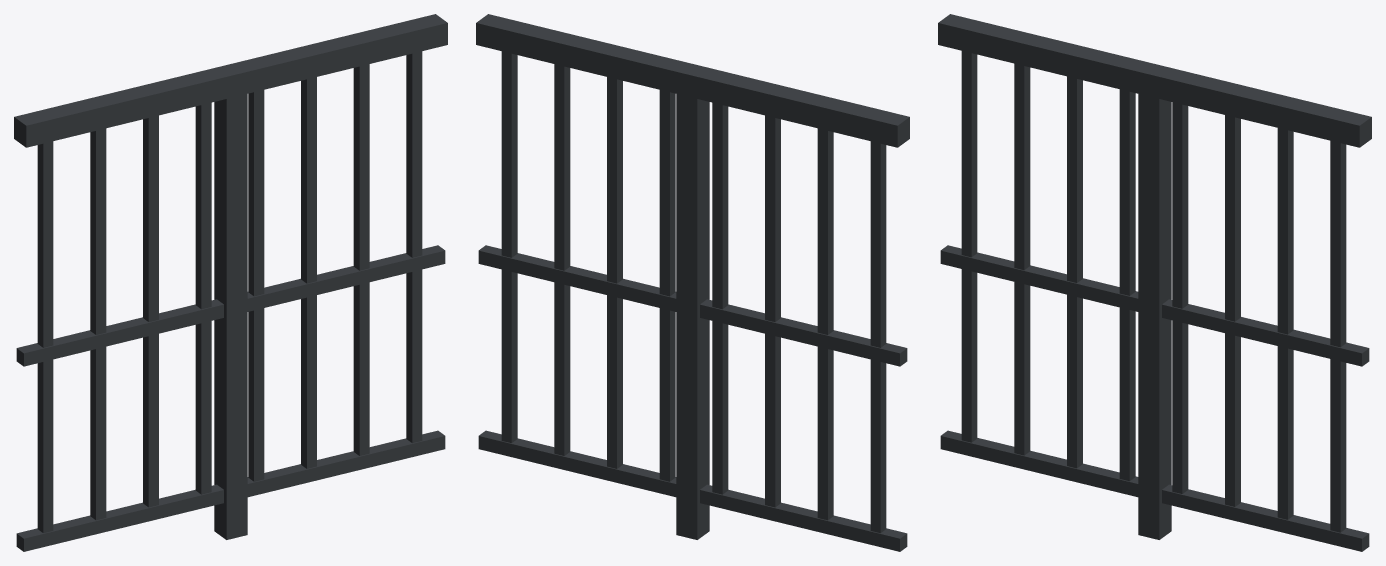
Rendered from t_metal_railing.glb.
The picture shows the model from 3 angles, left to right: view 1: azimuth 30°, elevation 25°; view 2: azimuth 150°, elevation 25°; view 3: azimuth 330°, elevation 25°; orthographic projection.
Visible parts, largest first — view 1: block_post, block_top, block_bottom, block_mid, block_bar1, block_bar7, block_bar4, block_bar6, block_bar0, block_bar3, block_bar2, block_bar5; view 2: block_post, block_top, block_bottom, block_mid, block_bar1, block_bar7, block_bar4, block_bar6, block_bar0, block_bar3, block_bar2, block_bar5; view 3: block_post, block_top, block_mid, block_bottom, block_bar6, block_bar3, block_bar1, block_bar4, block_bar7, block_bar0, block_bar5, block_bar2.
Boxes of the visible parts, x1=… form: block_post: x1=214, y1=63, x2=247, y2=539; block_top: x1=14, y1=14, x2=447, y2=147; block_bottom: x1=16, y1=430, x2=445, y2=551; block_mid: x1=16, y1=245, x2=445, y2=366; block_bar1: x1=90, y1=128, x2=106, y2=520; block_bar7: x1=406, y1=51, x2=422, y2=443; block_bar4: x1=248, y1=90, x2=264, y2=481; block_bar6: x1=353, y1=64, x2=369, y2=455; block_bar0: x1=37, y1=141, x2=53, y2=533; block_bar3: x1=195, y1=102, x2=211, y2=494; block_bar2: x1=143, y1=115, x2=158, y2=507; block_bar5: x1=301, y1=77, x2=316, y2=468; block_post: x1=676, y1=63, x2=709, y2=539; block_top: x1=476, y1=14, x2=909, y2=147; block_bottom: x1=478, y1=430, x2=907, y2=551; block_mid: x1=478, y1=245, x2=907, y2=366; block_bar1: x1=817, y1=128, x2=833, y2=520; block_bar7: x1=501, y1=51, x2=517, y2=443; block_bar4: x1=659, y1=90, x2=675, y2=481; block_bar6: x1=554, y1=64, x2=570, y2=455; block_bar0: x1=870, y1=141, x2=886, y2=533; block_bar3: x1=712, y1=102, x2=728, y2=494; block_bar2: x1=765, y1=115, x2=780, y2=507; block_bar5: x1=607, y1=77, x2=622, y2=468; block_post: x1=1138, y1=63, x2=1171, y2=539; block_top: x1=938, y1=14, x2=1371, y2=147; block_mid: x1=940, y1=245, x2=1369, y2=366; block_bottom: x1=940, y1=430, x2=1369, y2=551; block_bar6: x1=1277, y1=128, x2=1293, y2=519; block_bar3: x1=1119, y1=89, x2=1135, y2=481; block_bar1: x1=1014, y1=63, x2=1030, y2=455; block_bar4: x1=1172, y1=102, x2=1188, y2=493; block_bar7: x1=1330, y1=140, x2=1346, y2=532; block_bar0: x1=961, y1=51, x2=977, y2=442; block_bar5: x1=1225, y1=115, x2=1240, y2=506; block_bar2: x1=1067, y1=76, x2=1082, y2=468.
Bounding box in the file's own units: 1 × 1.05 × 0.05.
Materials: 1 (1 with a texture image).
